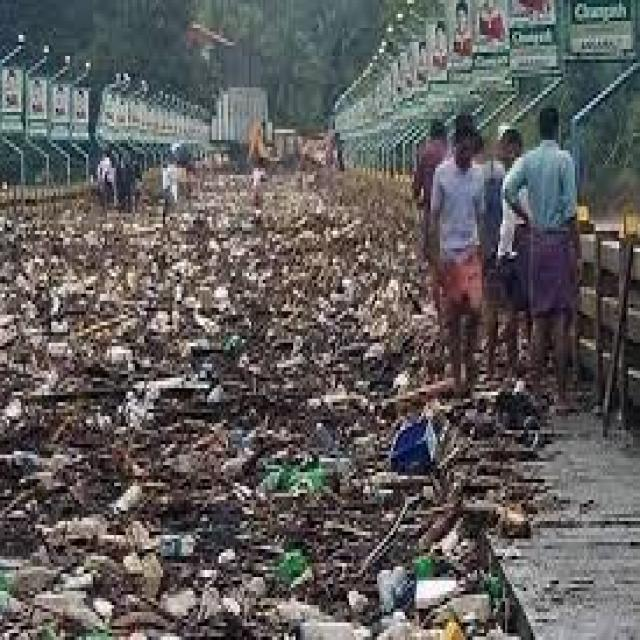heap: (141, 253, 441, 515)
